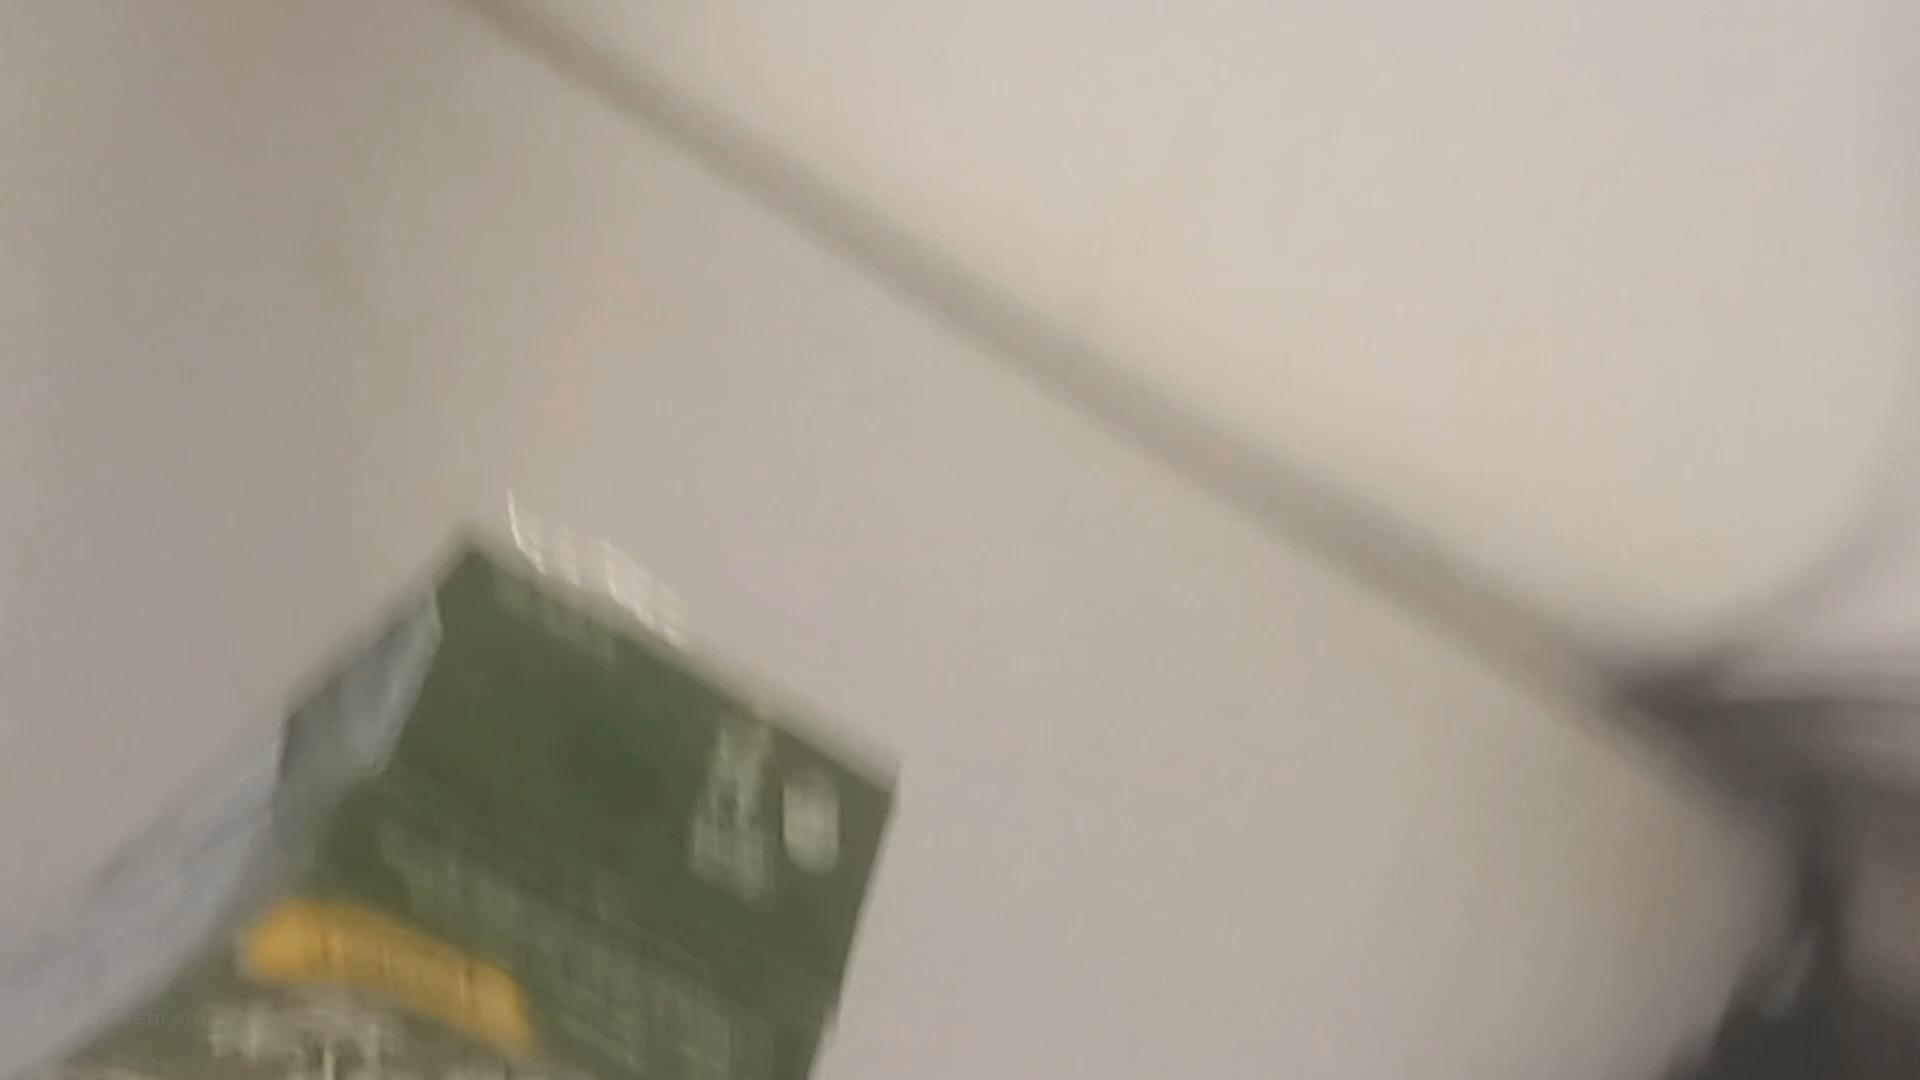coco: (5, 550, 930, 1080)
